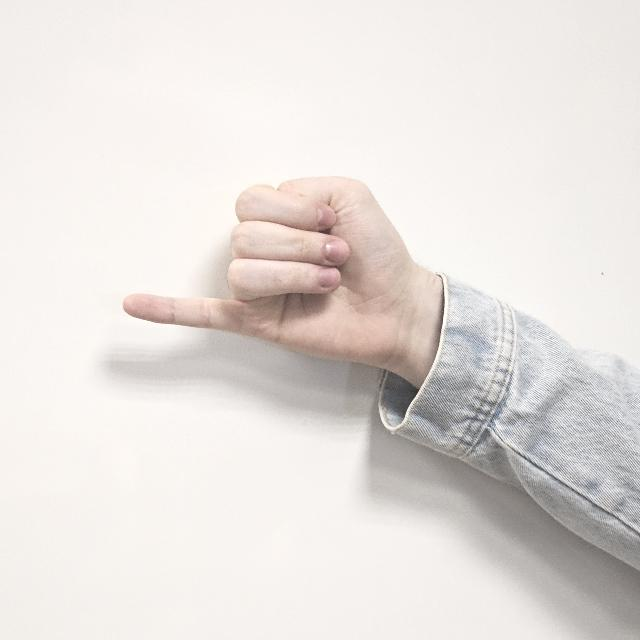Esquerda: (112, 142, 448, 412)
